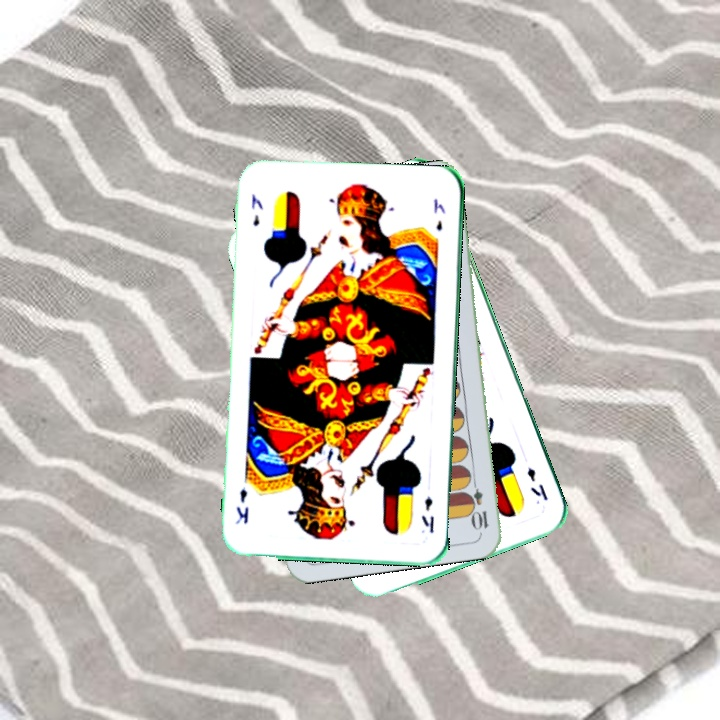E10: (466, 473, 491, 533)
EK: (523, 463, 551, 504), (417, 492, 437, 535), (247, 190, 266, 229)
